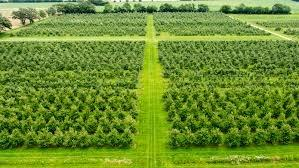field: (0, 41, 142, 148), (158, 41, 299, 147), (15, 14, 146, 35), (154, 13, 265, 35), (235, 14, 298, 37)
road: (2, 13, 299, 45), (0, 146, 297, 168), (132, 15, 172, 168), (0, 14, 59, 40)
